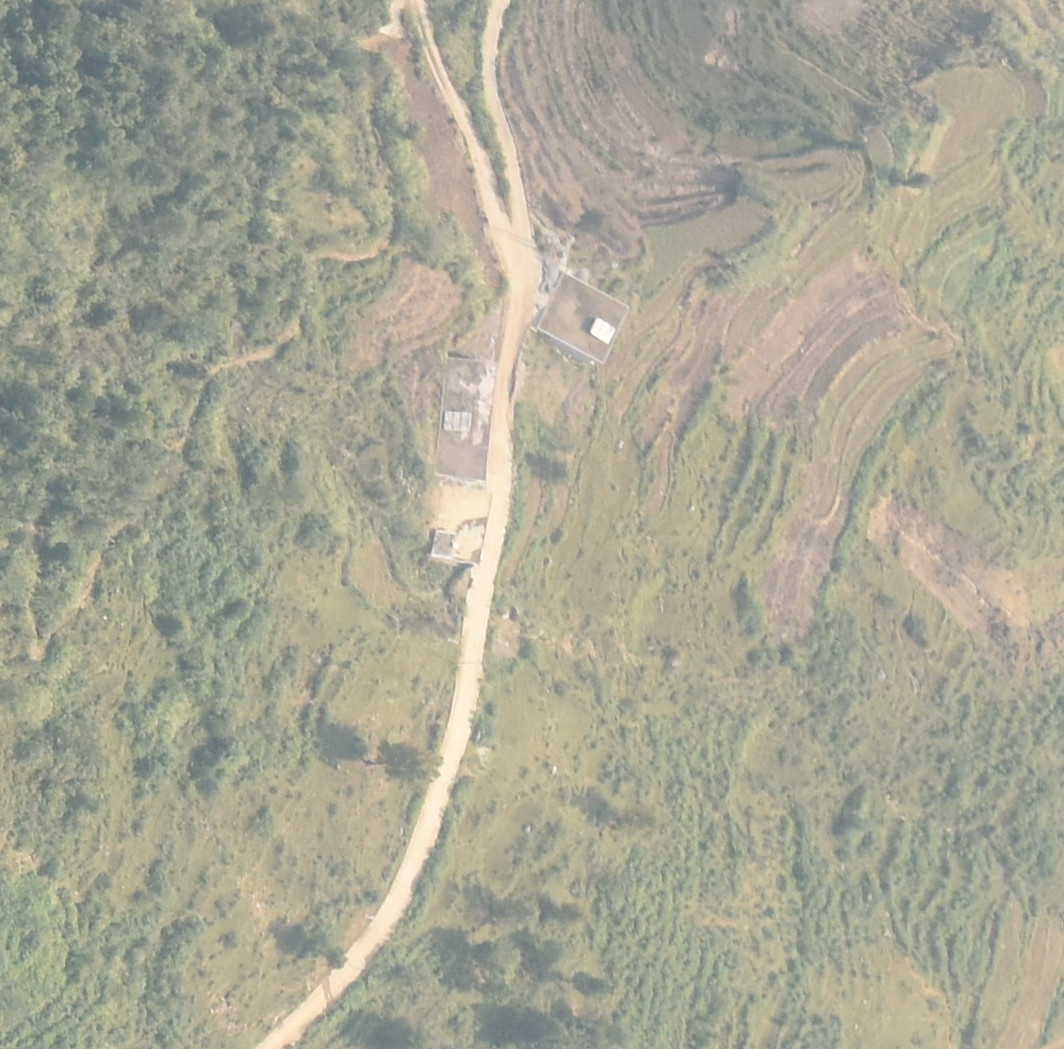building: (536, 271, 631, 363), (436, 357, 498, 484)
